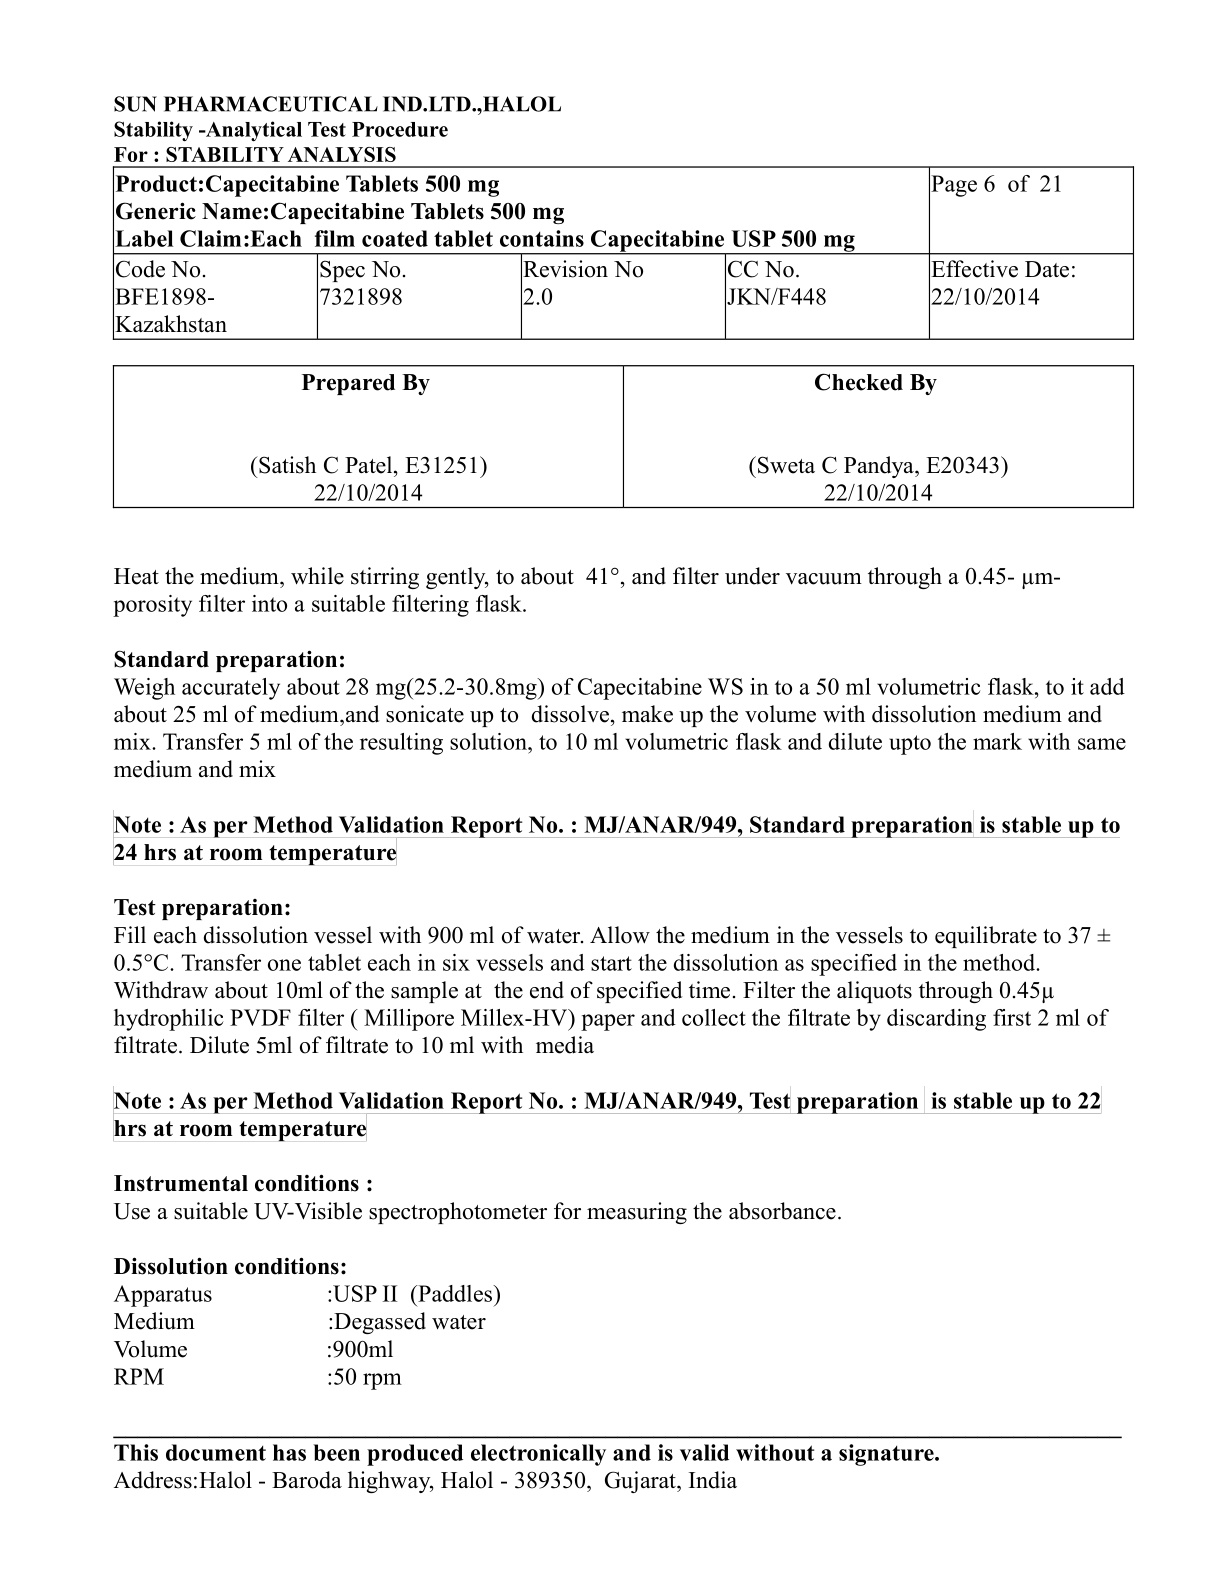full_lined: (112, 364, 1135, 510)
merged_cells: (111, 166, 1134, 341)
nolines: (112, 1283, 501, 1391)
